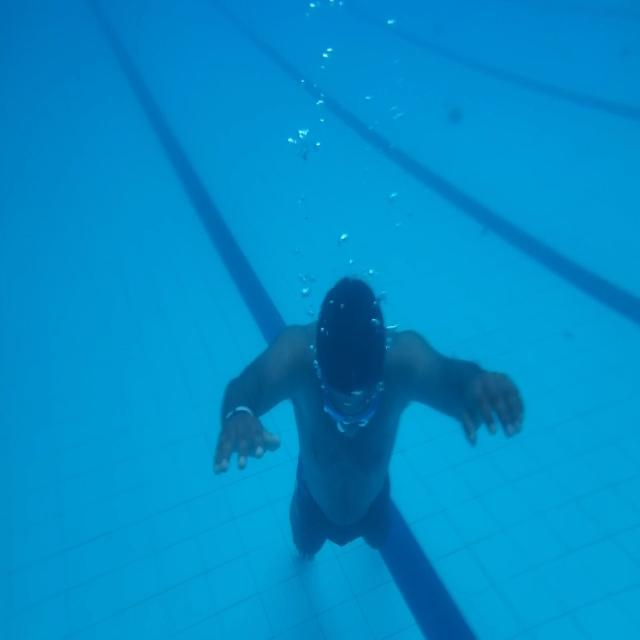drowning: (200, 270, 535, 598)
